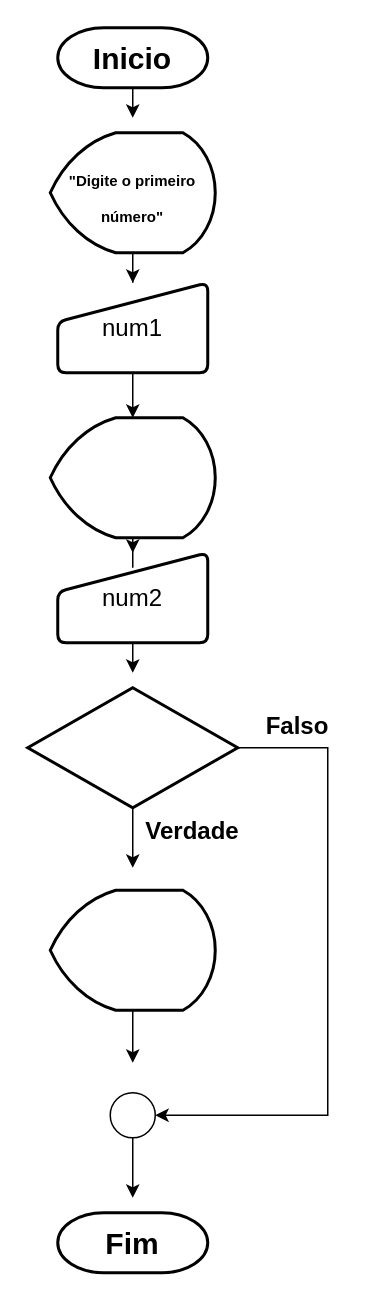
Some shapes in this 368 by 1299 pixel diagram are drawn without their labels. Here are the shapes that lost their labels. From the top down, the centre of each, then its label:
point (132, 477): "Digite o segundo número"
point (132, 747): num1 > num2
point (132, 949): "O primeiro número é maior"
